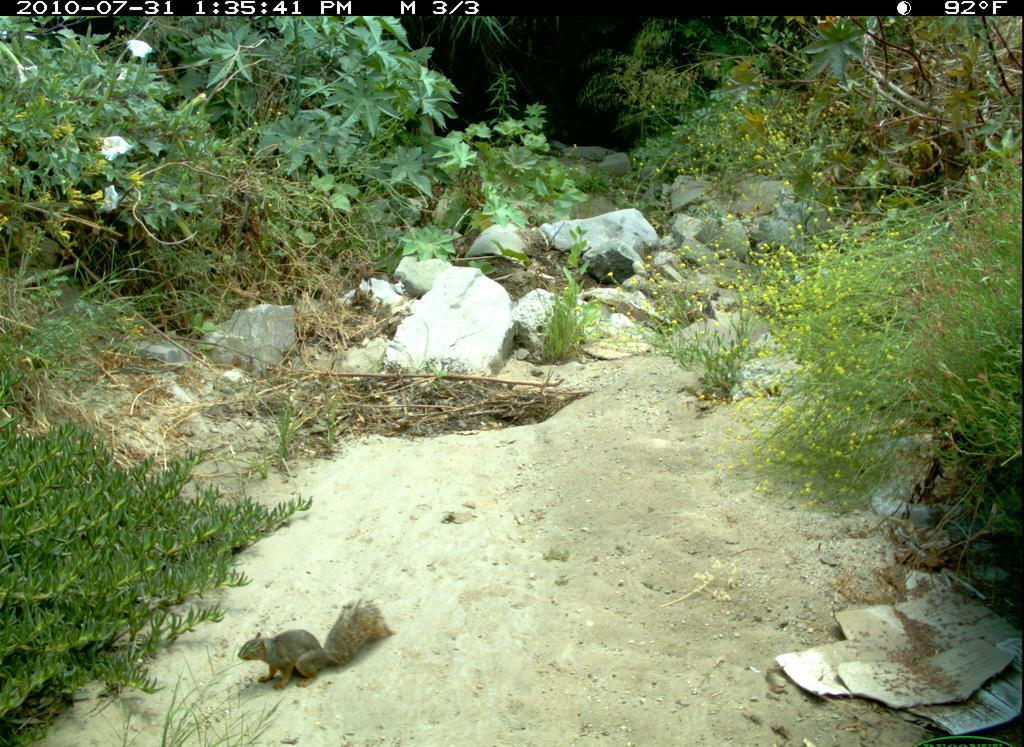squirrel: (233, 593, 397, 694)
